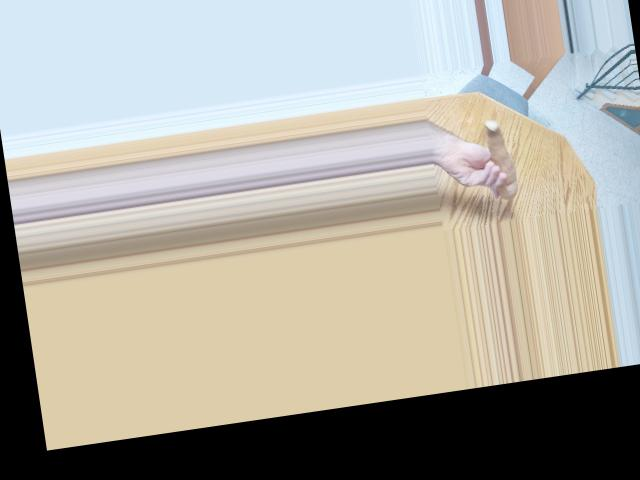sweet_potato: (476, 120, 522, 202)
